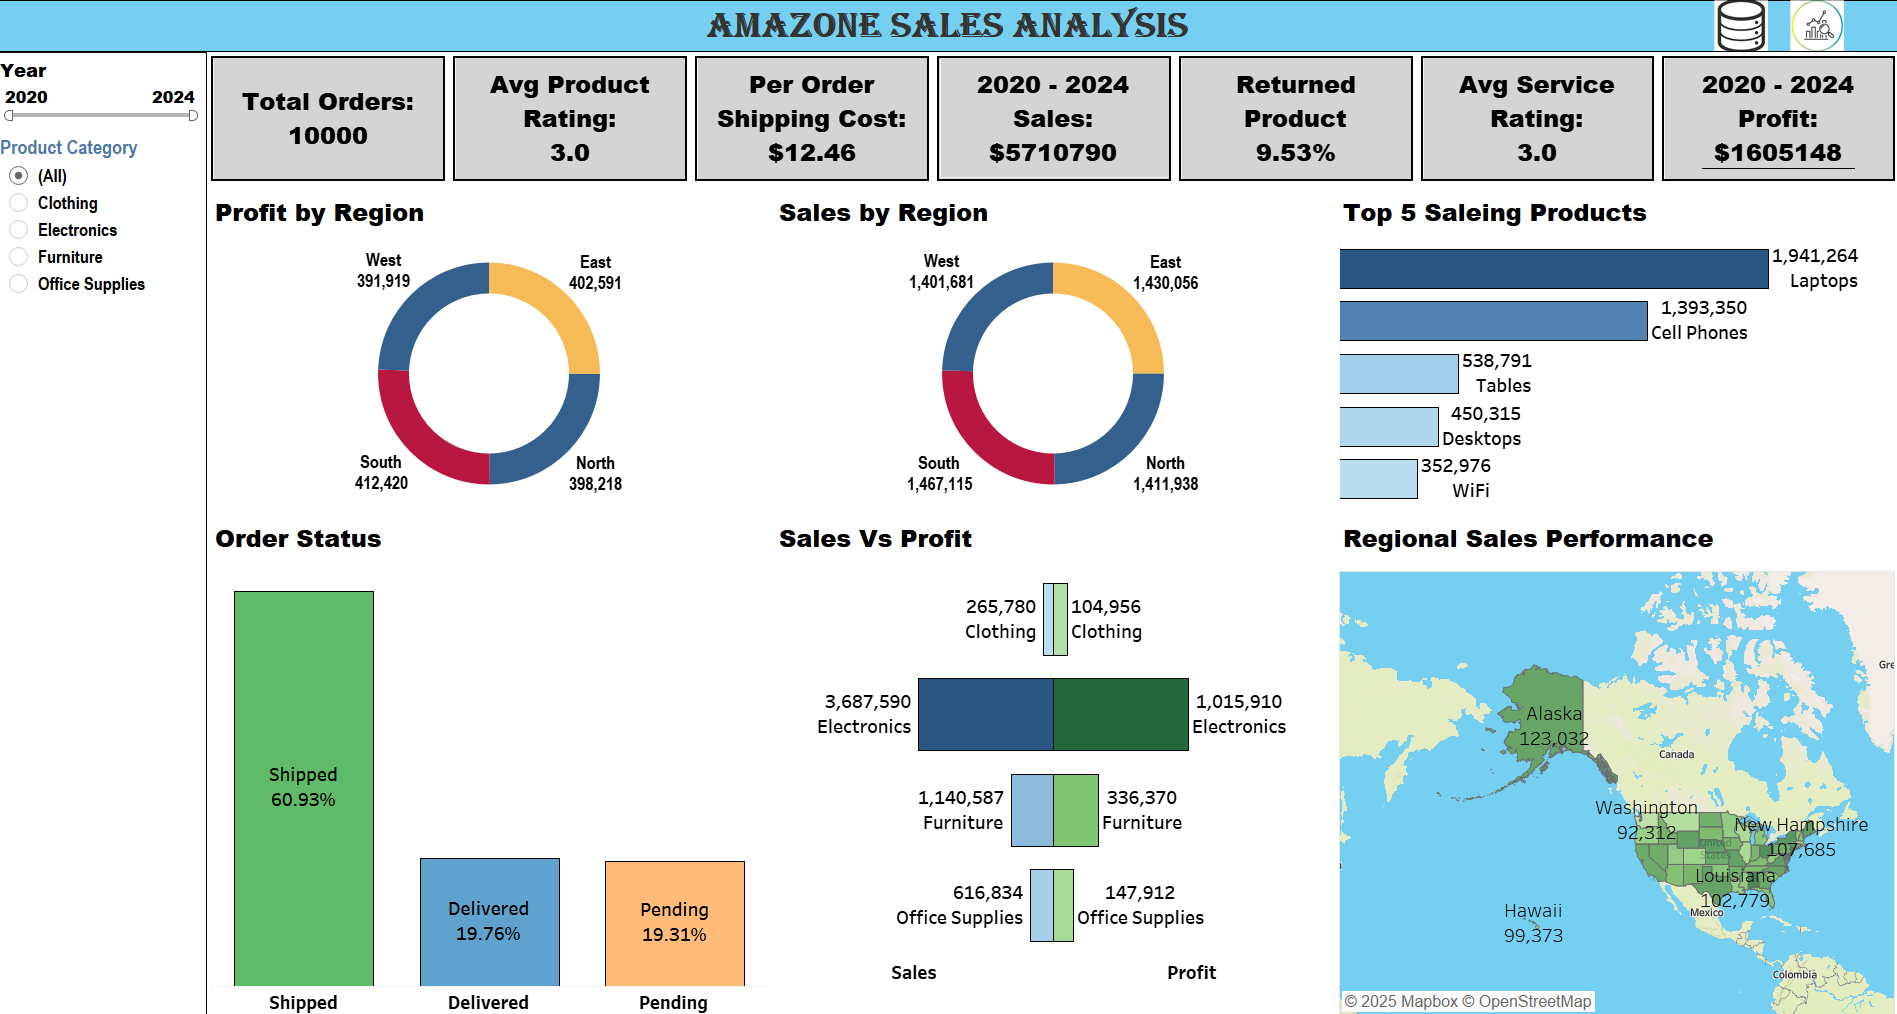

This screenshot's page, from the dashboard's own definition file:
{"tool":"tableau","page":{"name":"Dashboard 1","canvas":[1000,1000],"units":"permille","ordinal":0},"visuals":[{"type":"title","box":[4.8,10,990.5,83.7]},{"type":"image","param":"D:/downloads/Amazon.png","box":[13.7,15,42.9,51.2]},{"type":"dashboard-object","box":[11.9,82.4,73.9,153.6]},{"type":"worksheet","title":"Total Sales","mark":"Text","rows":["Calculation_727894297951326208"],"box":[230.1,87.4,123.9,124.8]},{"type":"worksheet","title":"Total Orders","mark":"Text","rows":["Calculation_727894297951326208"],"box":[101.5,89.9,125.7,122.4]},{"type":"worksheet","title":"Total Profit","mark":"Text","rows":["Calculation_727894297951326208"],"box":[356.3,89.9,123.9,124.8]},{"type":"worksheet","title":"Per Order Shipping Cost","mark":"Text","rows":["Calculation_727894297951326208"],"box":[484.4,91.1,123.9,124.8]},{"type":"worksheet","title":"Service Rating","mark":"Text","rows":["Calculation_727894297951326208"],"box":[741,91.1,123.9,124.8]},{"type":"worksheet","title":"Return Product percentage","mark":"Text","rows":["Calculation_727894297951326208"],"box":[870,91.1,119.3,124.8]},{"type":"worksheet","title":"Product Rating","mark":"Text","rows":["Calculation_727894297951326208"],"box":[613,92.4,123.9,124.8]},{"type":"worksheet","title":"Blank Needed Sheet","mark":"Automatic","box":[4.8,93.6,89,896.4]},{"type":"worksheet","title":"Sheet 37","mark":"Automatic","box":[93.8,93.6,901.4,896.4]},{"type":"worksheet","title":"Heading 1","mark":"Automatic","box":[100.9,224.7,251.9,35]},{"type":"worksheet","title":"Heading 3","mark":"Automatic","box":[358.7,224.7,253.1,35]},{"type":"worksheet","title":"Heading 4","mark":"Automatic","box":[617.1,224.7,365.8,35]},{"type":"filter","title":"Region Wise Sales","param":"[federated.0or5l190kw7jja19xw37s0vko21c].[none:ProductCategory:nk]","box":[9.5,242.2,78.1,168.5]},{"type":"worksheet","title":"Region Wise Profit","mark":"Pie","rows":["Calculation_727894297951326208","Calculation_727894297951326208"],"box":[358.1,267.2,253.7,339.6]},{"type":"worksheet","title":"Region Wise Sales","mark":"Pie","rows":["Calculation_727894297951326208","Calculation_727894297951326208"],"box":[100.3,268.4,253.7,339.6]},{"type":"worksheet","title":"Top Selling Products","mark":"Automatic","rows":["ProductSubCategory"],"cols":["Sales"],"box":[616.5,268.4,367.6,334.6]},{"type":"filter","title":"Category Wise sales","param":"[federated.0or5l190kw7jja19xw37s0vko21c].[none:year:qk]","box":[10.1,433.2,77.5,83.7]},{"type":"worksheet","title":"Sheet 18","mark":"Automatic","box":[99.1,614.2,345.1,35]},{"type":"worksheet","title":"Heading 2","mark":"Automatic","box":[449,615.5,226.6,35]},{"type":"worksheet","title":"Order Status","mark":"Bar","rows":["OrderID"],"cols":["OrderStatus"],"box":[678.5,615.5,306.2,354.6]},{"type":"worksheet","title":"Sales On Map","mark":"Multipolygon","box":[99.1,655.4,344.5,317.1]},{"type":"worksheet","title":"Category Wise sales","mark":"Automatic","rows":["ProductCategory"],"cols":["Sales","Profit"],"box":[448.4,657.9,227.1,314.6]}]}

Visuals, with their boxes on the dashboard's canvas, which has no fixed pixel size, in thousandths of its width and height (x1, y1, x2, y2). These are canvas units, not pixel positions in the 1897x1014 screenshot, which may show the page scaled, cropped or inside an application window:
title: locate(5, 10, 995, 94)
image: locate(14, 15, 57, 66)
dashboard-object: locate(12, 82, 86, 236)
"Total Sales" worksheet (Text marks): locate(230, 87, 354, 212)
"Total Orders" worksheet (Text marks): locate(102, 90, 227, 212)
"Total Profit" worksheet (Text marks): locate(356, 90, 480, 215)
"Per Order Shipping Cost" worksheet (Text marks): locate(484, 91, 608, 216)
"Service Rating" worksheet (Text marks): locate(741, 91, 865, 216)
"Return Product percentage" worksheet (Text marks): locate(870, 91, 989, 216)
"Product Rating" worksheet (Text marks): locate(613, 92, 737, 217)
"Blank Needed Sheet" worksheet: locate(5, 94, 94, 990)
"Sheet 37" worksheet: locate(94, 94, 995, 990)
"Heading 1" worksheet: locate(101, 225, 353, 260)
"Heading 3" worksheet: locate(359, 225, 612, 260)
"Heading 4" worksheet: locate(617, 225, 983, 260)
"Region Wise Sales" filter: locate(10, 242, 88, 411)
"Region Wise Profit" worksheet (Pie marks): locate(358, 267, 612, 607)
"Region Wise Sales" worksheet (Pie marks): locate(100, 268, 354, 608)
"Top Selling Products" worksheet: locate(616, 268, 984, 603)
"Category Wise sales" filter: locate(10, 433, 88, 517)
"Sheet 18" worksheet: locate(99, 614, 444, 649)
"Heading 2" worksheet: locate(449, 616, 676, 650)
"Order Status" worksheet (Bar marks): locate(678, 616, 985, 970)
"Sales On Map" worksheet (Multipolygon marks): locate(99, 655, 444, 972)
"Category Wise sales" worksheet: locate(448, 658, 676, 972)
